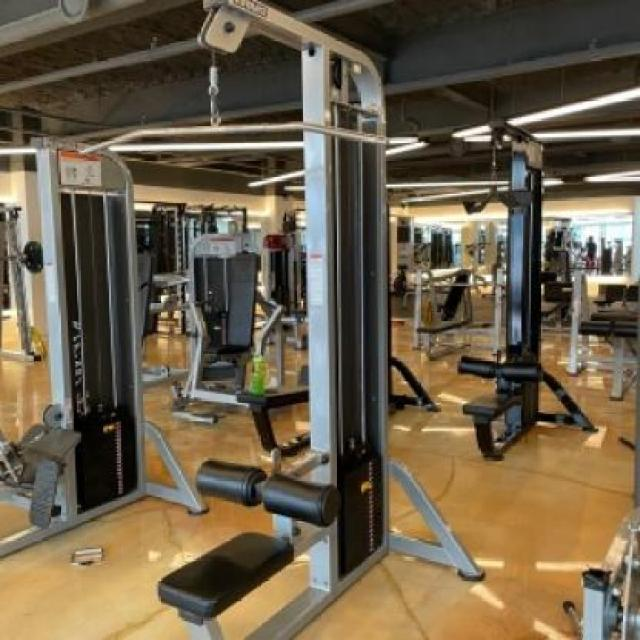Lat Pull Down: (60, 0, 494, 640)
